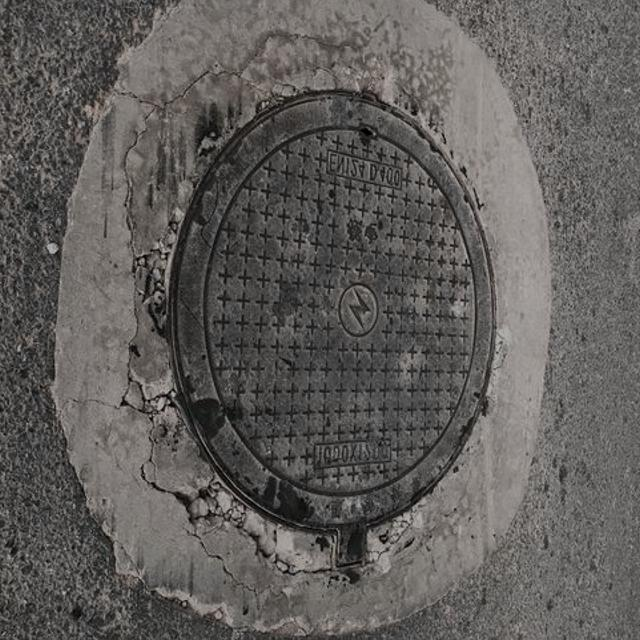circle: (55, 0, 549, 627)
